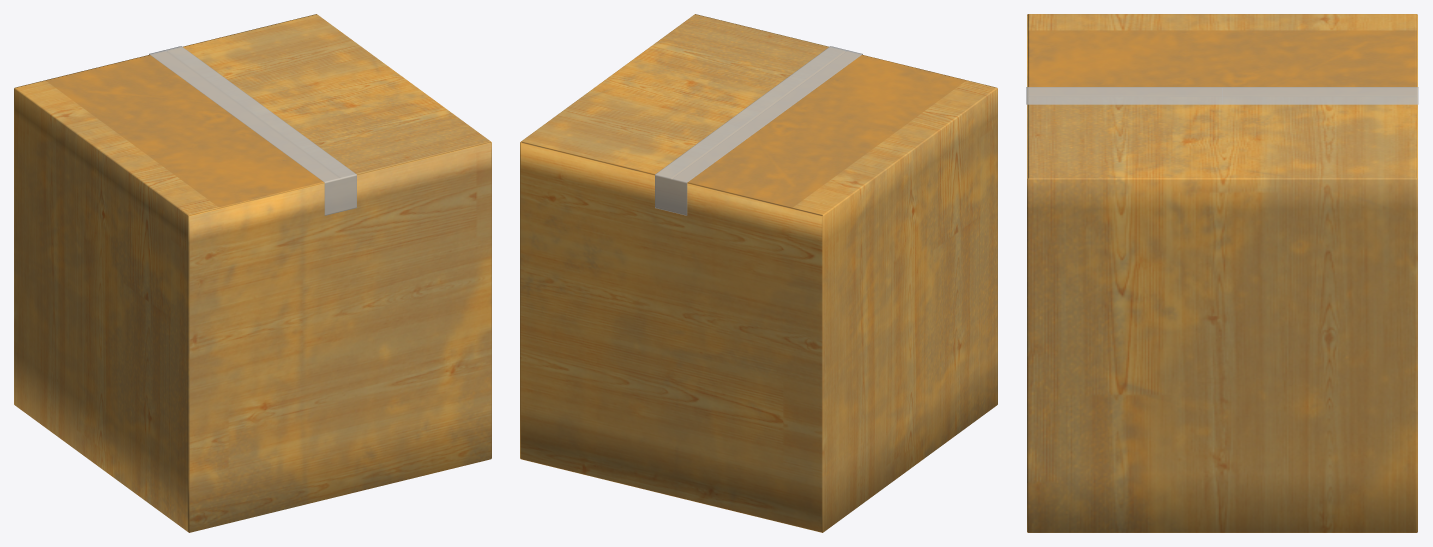
The model's file is karton.fbx.
3 views of the same model, side by side, from view 1: azimuth 30°, elevation 25°; view 2: azimuth 150°, elevation 25°; view 3: azimuth 270°, elevation 25° (orthographic). The views are drawn at different scales.
Visible parts, largest first — view 1: Cardboard_box_on_palette_2, Cardboard_box_on_palette_3; view 2: Cardboard_box_on_palette_2, Cardboard_box_on_palette_3; view 3: Cardboard_box_on_palette_2, Cardboard_box_on_palette_3.
Boxes of the visible parts, x1,y1,x2,y2 form: Cardboard_box_on_palette_2: (14, 14, 491, 532); Cardboard_box_on_palette_3: (149, 46, 356, 215); Cardboard_box_on_palette_2: (520, 14, 997, 532); Cardboard_box_on_palette_3: (655, 46, 862, 215); Cardboard_box_on_palette_2: (1027, 14, 1417, 532); Cardboard_box_on_palette_3: (1026, 87, 1418, 104).
Bounding box in the file's own units: 50 × 50.04 × 50.12.
2 materials, 1 textured.
